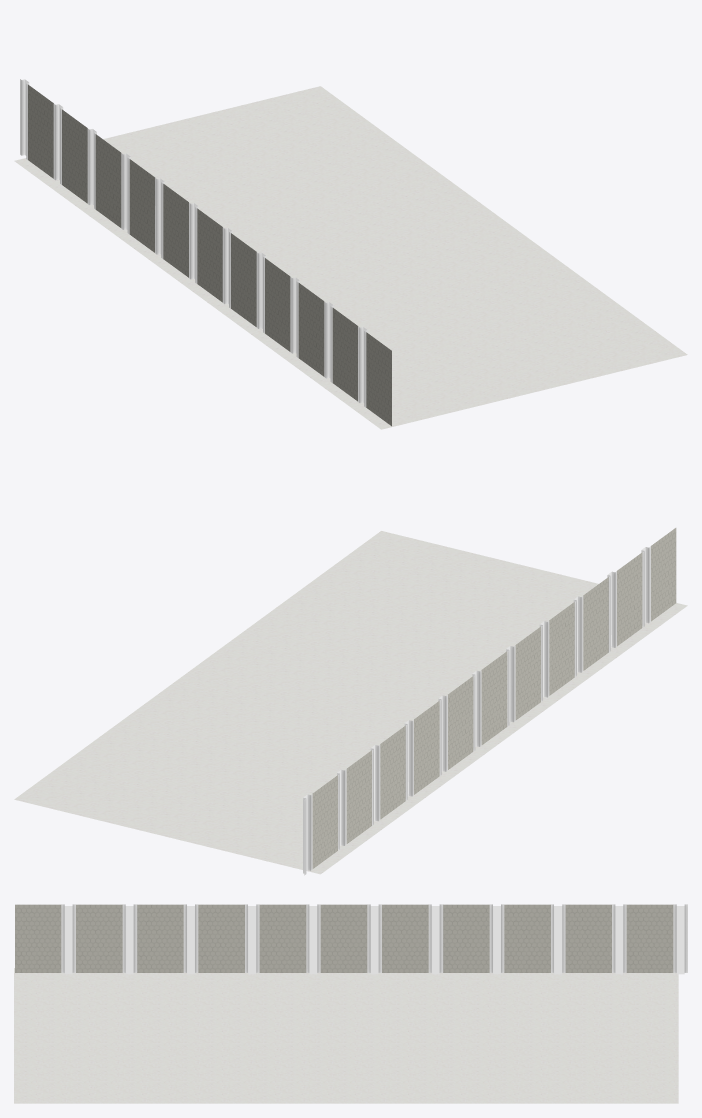
Rendered from hall for single stall.glb.
The picture shows the model from 3 angles, top to bottom: view 1: azimuth 30°, elevation 25°; view 2: azimuth 150°, elevation 25°; view 3: azimuth 270°, elevation 25°; orthographic projection. The views are drawn at different scales.
Parts seen in each view (by area): view 1: floor, Plane.006; view 2: floor, Plane.006; view 3: floor, Plane.006.
Part boxes in pixels (bbox=[...]): floor: bbox=[14, 86, 687, 429]; Plane.006: bbox=[20, 79, 391, 426]; floor: bbox=[14, 531, 687, 874]; Plane.006: bbox=[303, 528, 676, 875]; floor: bbox=[14, 968, 678, 1103]; Plane.006: bbox=[15, 904, 687, 974].
Size of the model in its own units: 79.42 by 18.77 by 167.
Materials: 4 (4 with a texture image).
